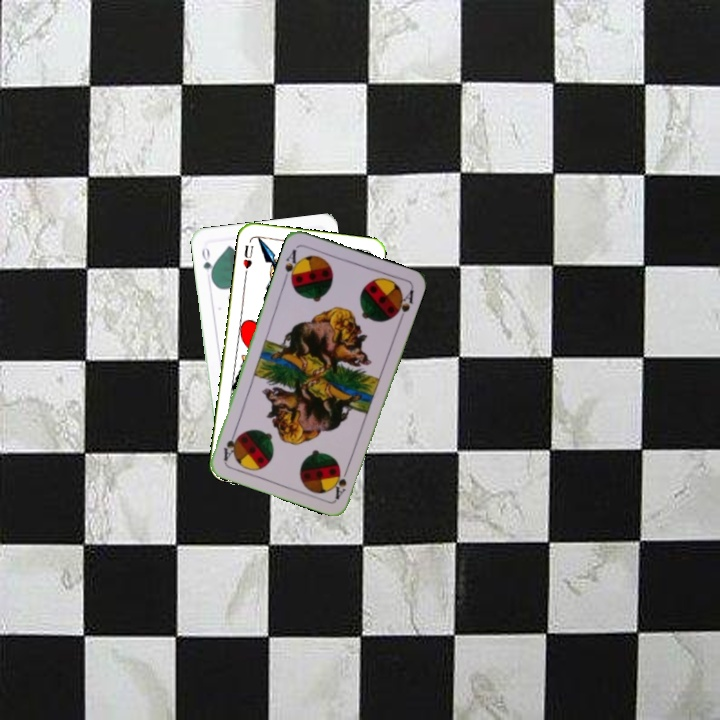GO: (198, 243, 216, 282)
HU: (239, 241, 256, 271)
SA: (280, 245, 303, 286), (331, 462, 352, 502)
